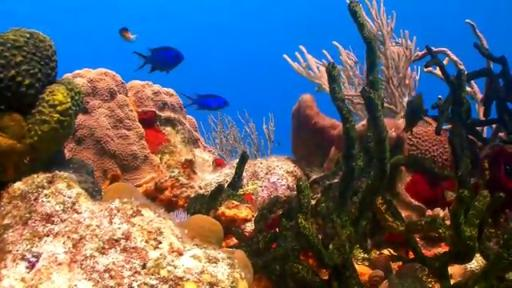Fish: (134, 47, 183, 72), (404, 93, 427, 132), (180, 93, 229, 111), (119, 28, 136, 42)
